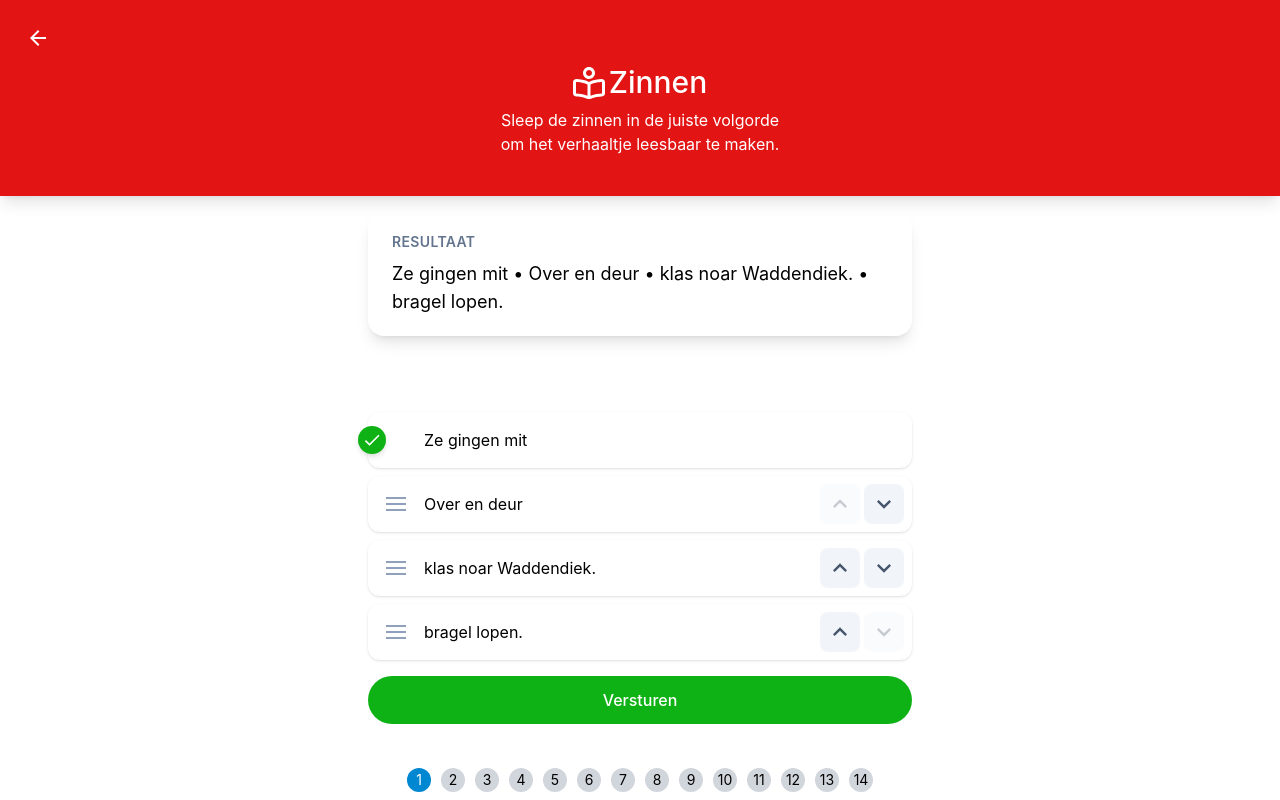
it: a wrong submit › shows the exact original message and marks every row
What coordinates should you click on to do the following:
click the button "Versturen"
I would click on:
 (640, 700)
Its box is [368,676,912,724].
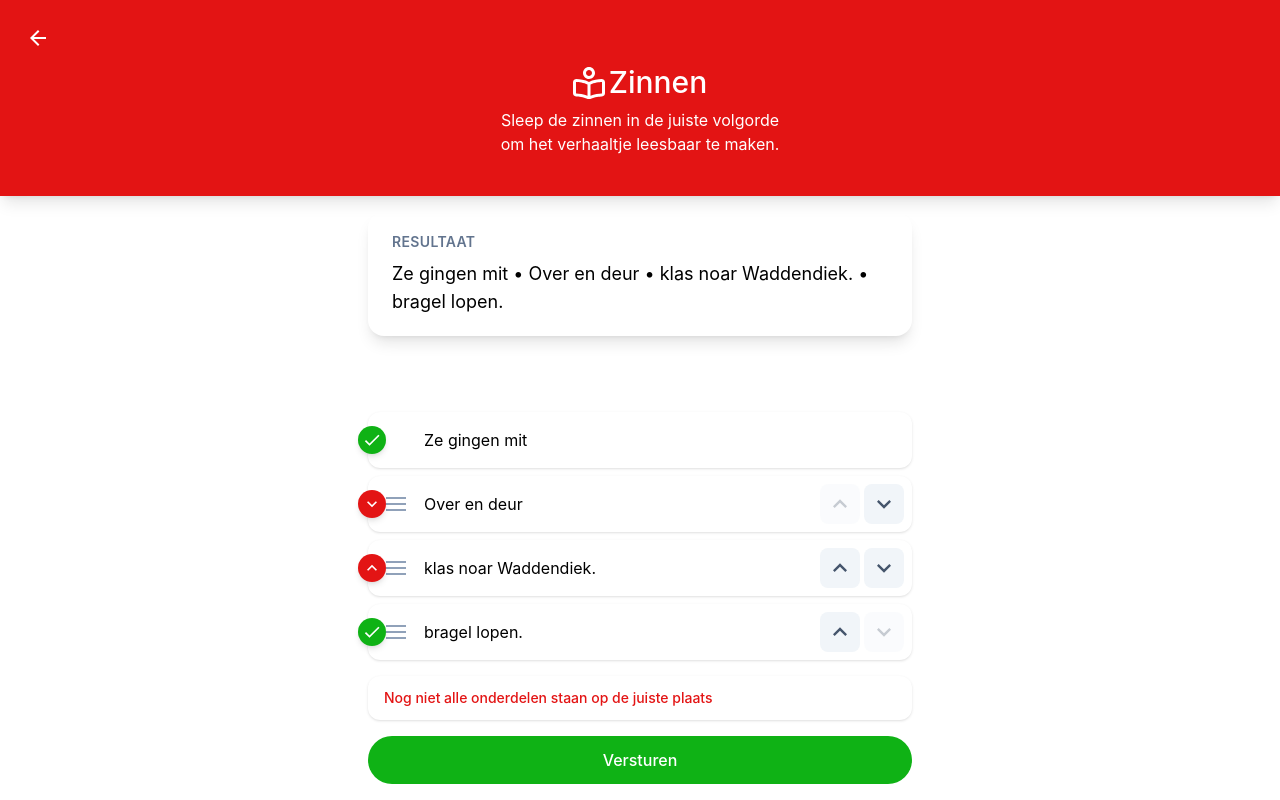
Expected: the text "Nog niet alle onderdelen staan op de juiste plaats" is shown, [368,676,912,720]
